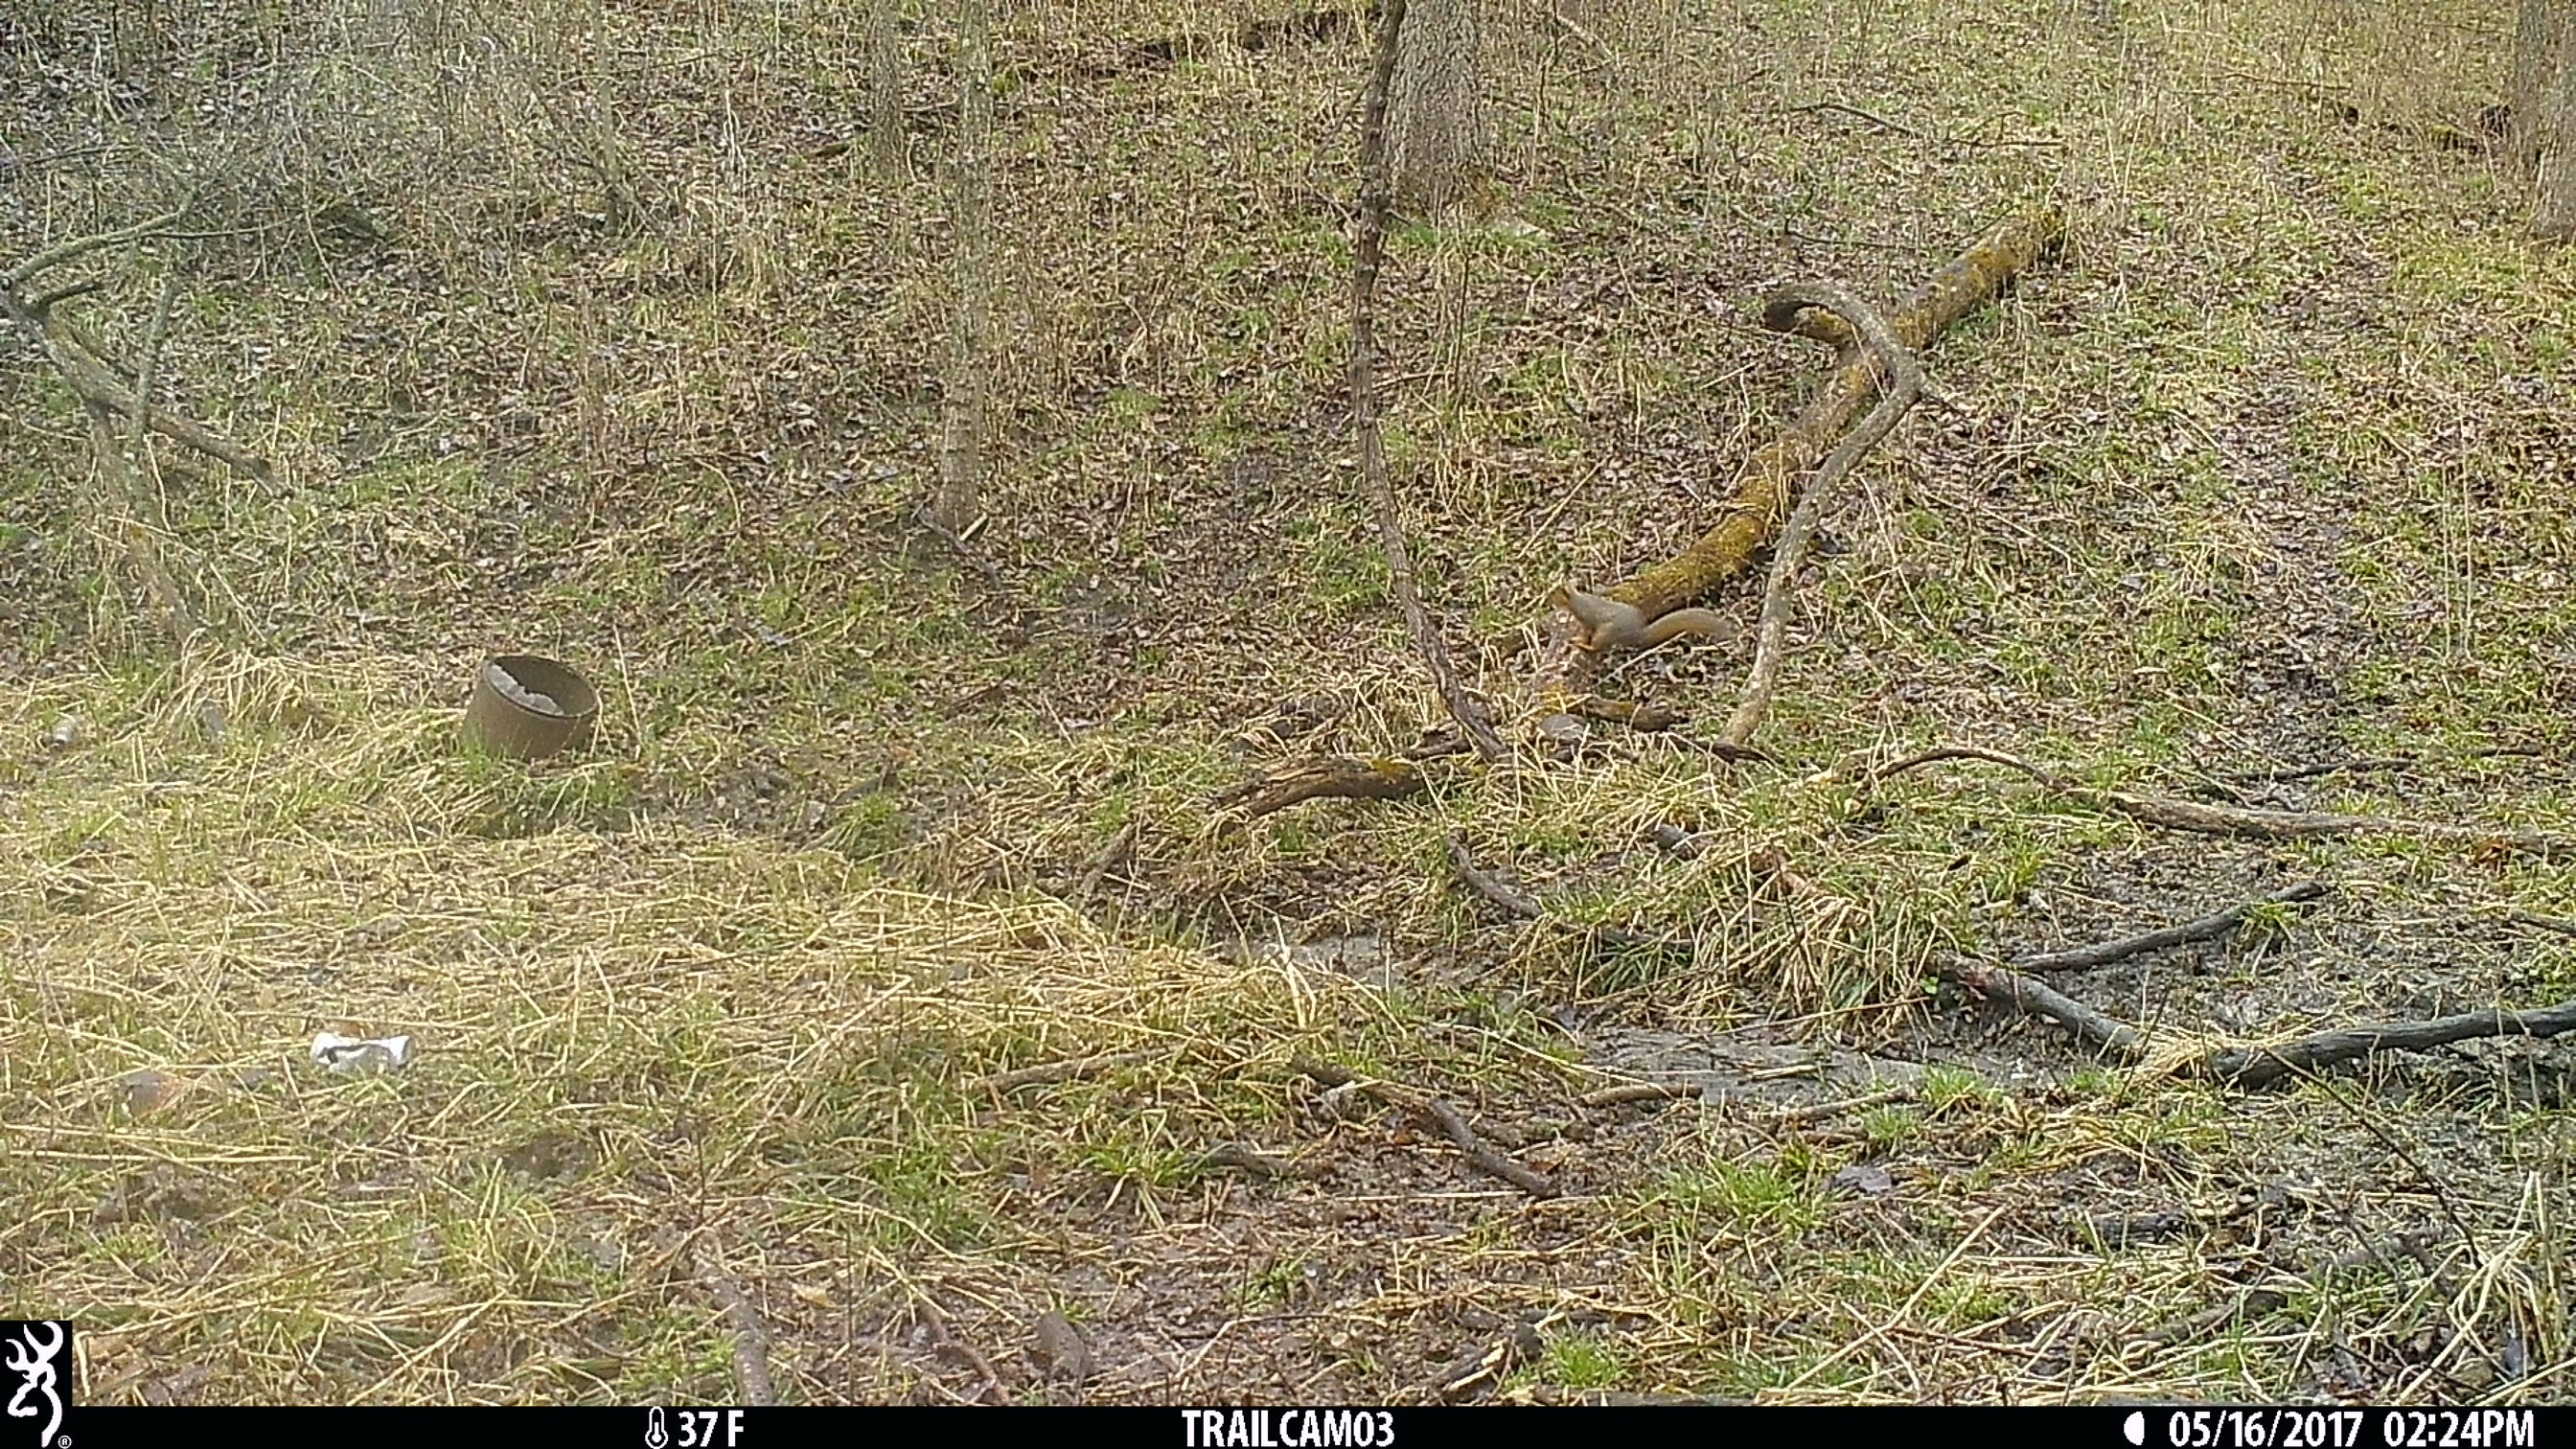Squirrel: (1543, 575, 1734, 660)
